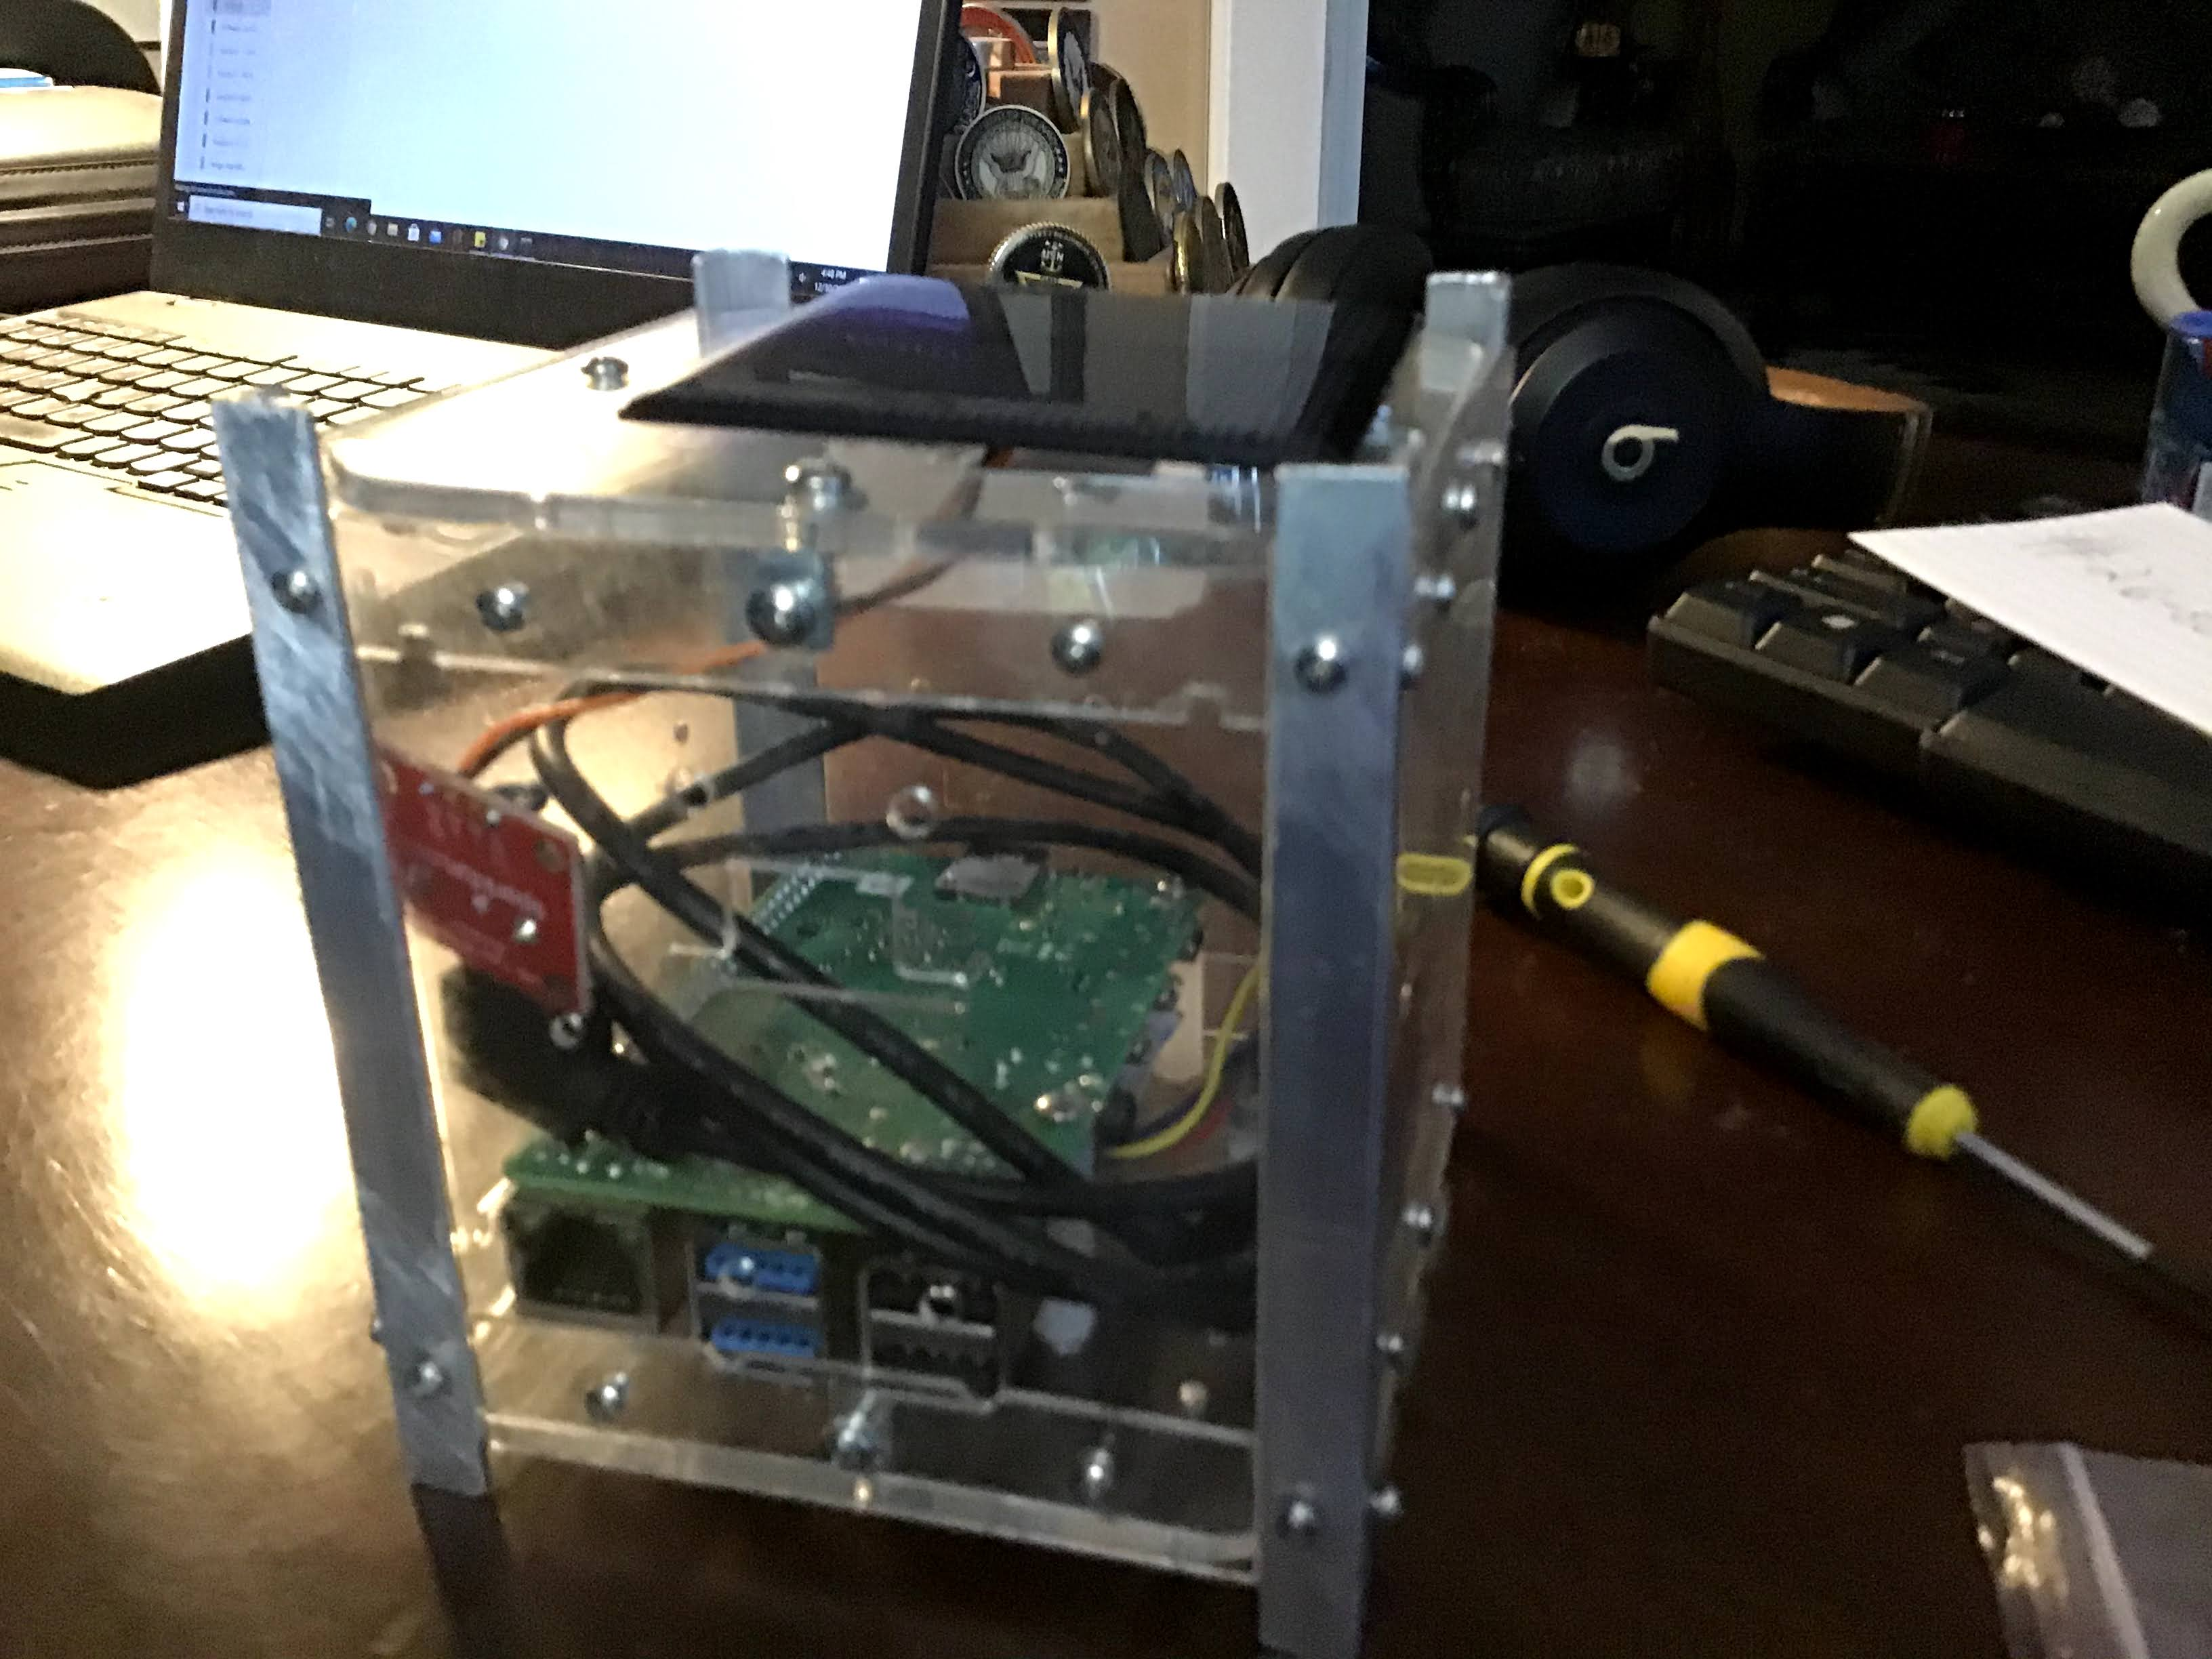Space-debris-cubesat: (218, 216, 1576, 1659)
